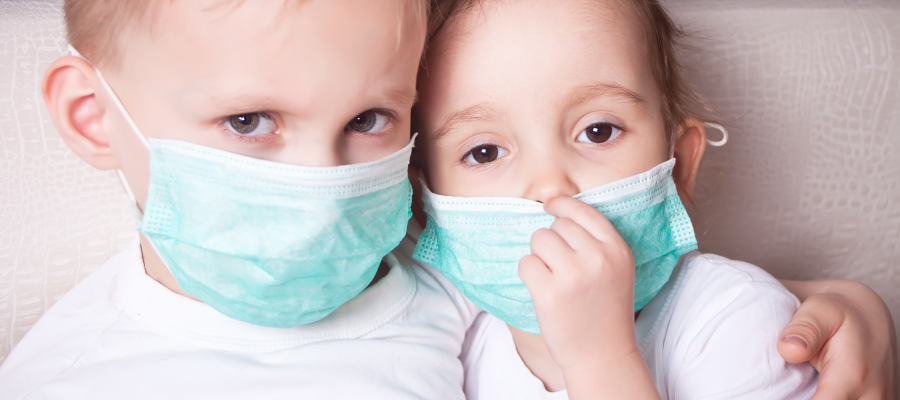surgical: (414, 156, 723, 343), (135, 139, 419, 333)
